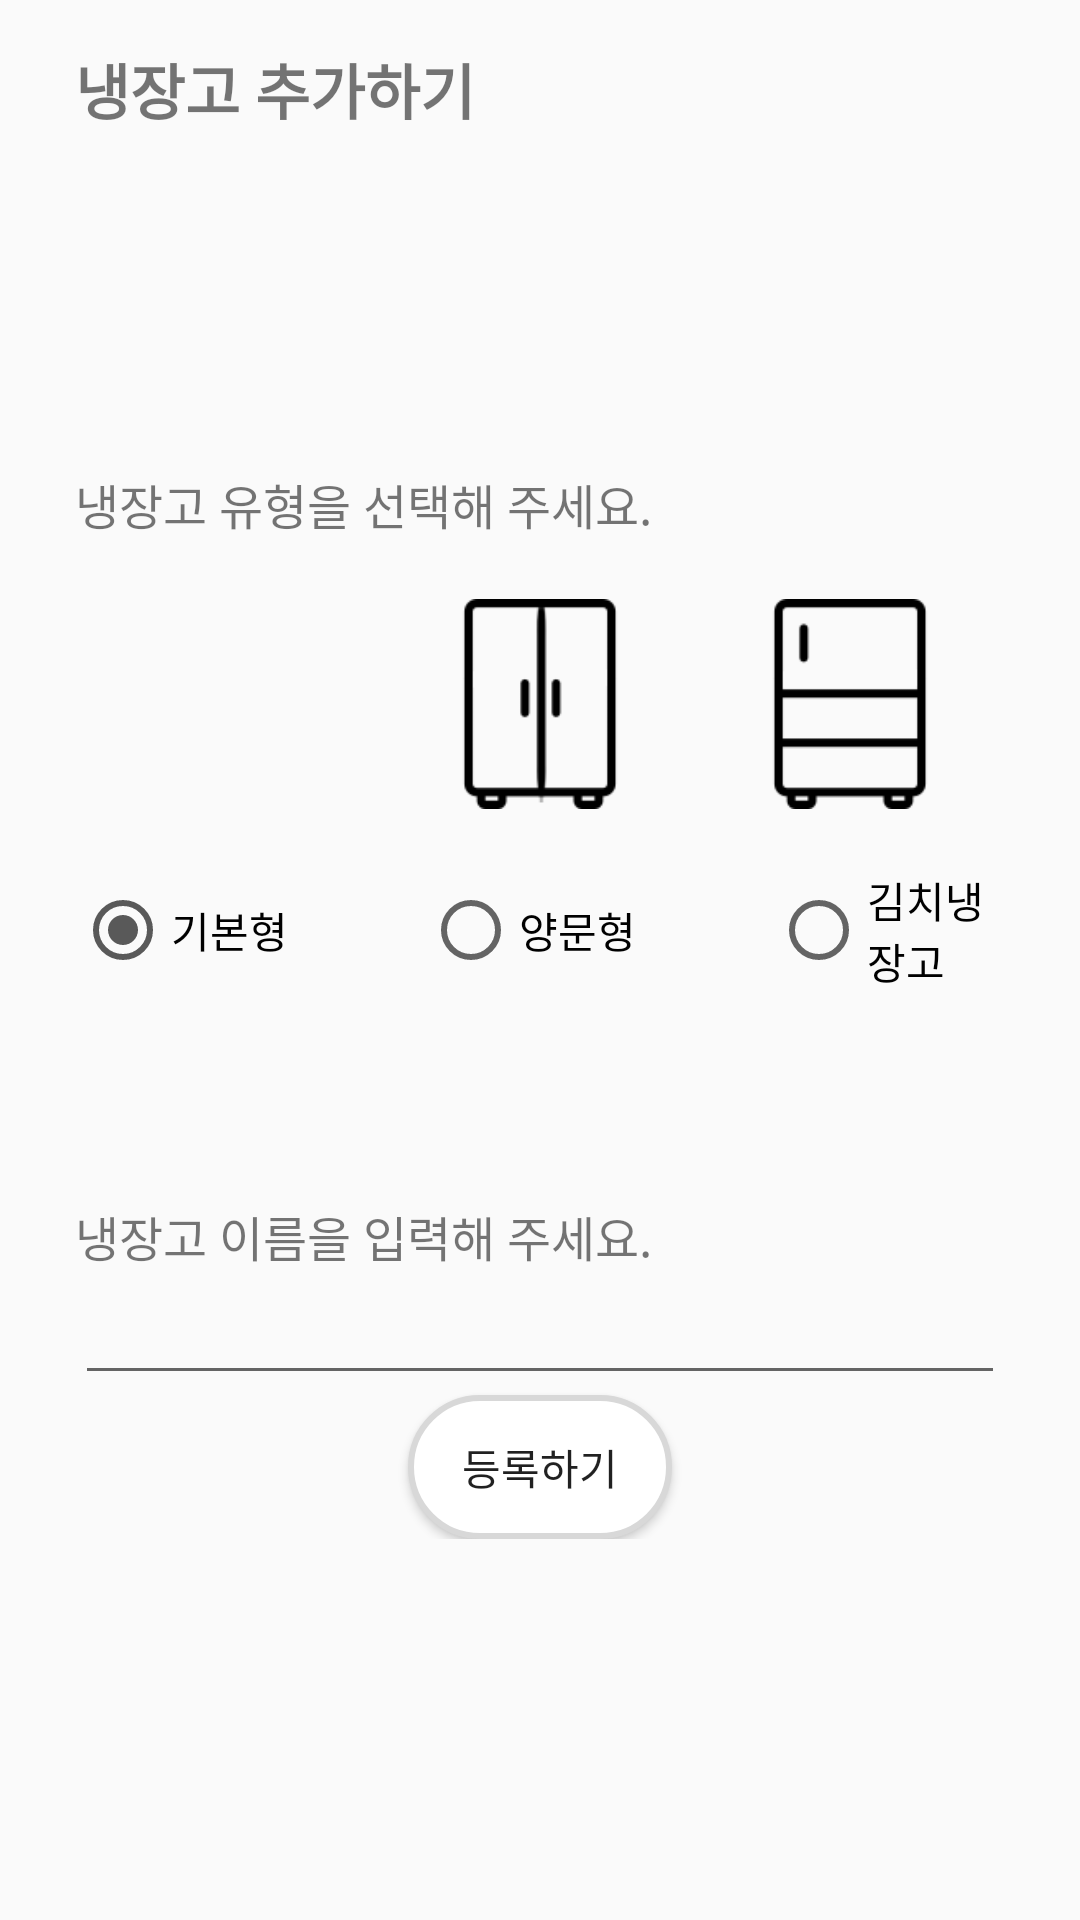

Where icons sit on this 1080×1920 app screen, as (x1, y1, x2, y2):
fridge: (464, 599, 616, 809), (774, 599, 926, 809)
